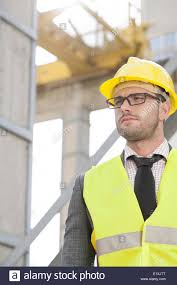Person_wearing_helmet: (95, 58, 176, 109)
